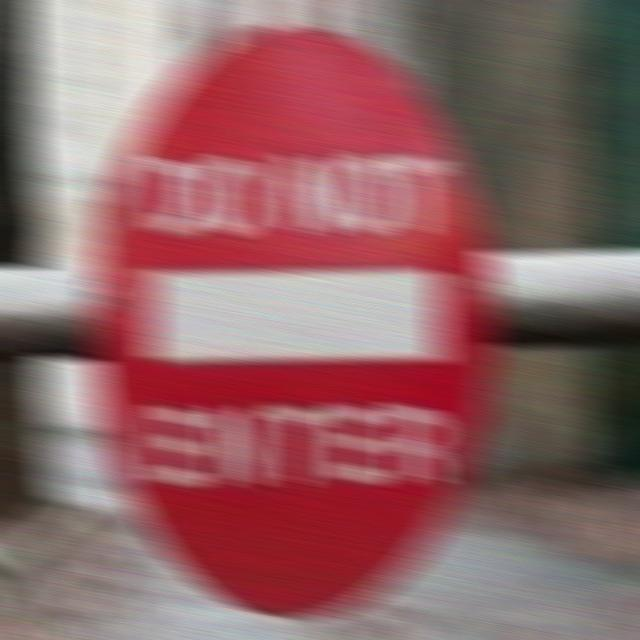doNotEnter: (88, 28, 500, 618)
